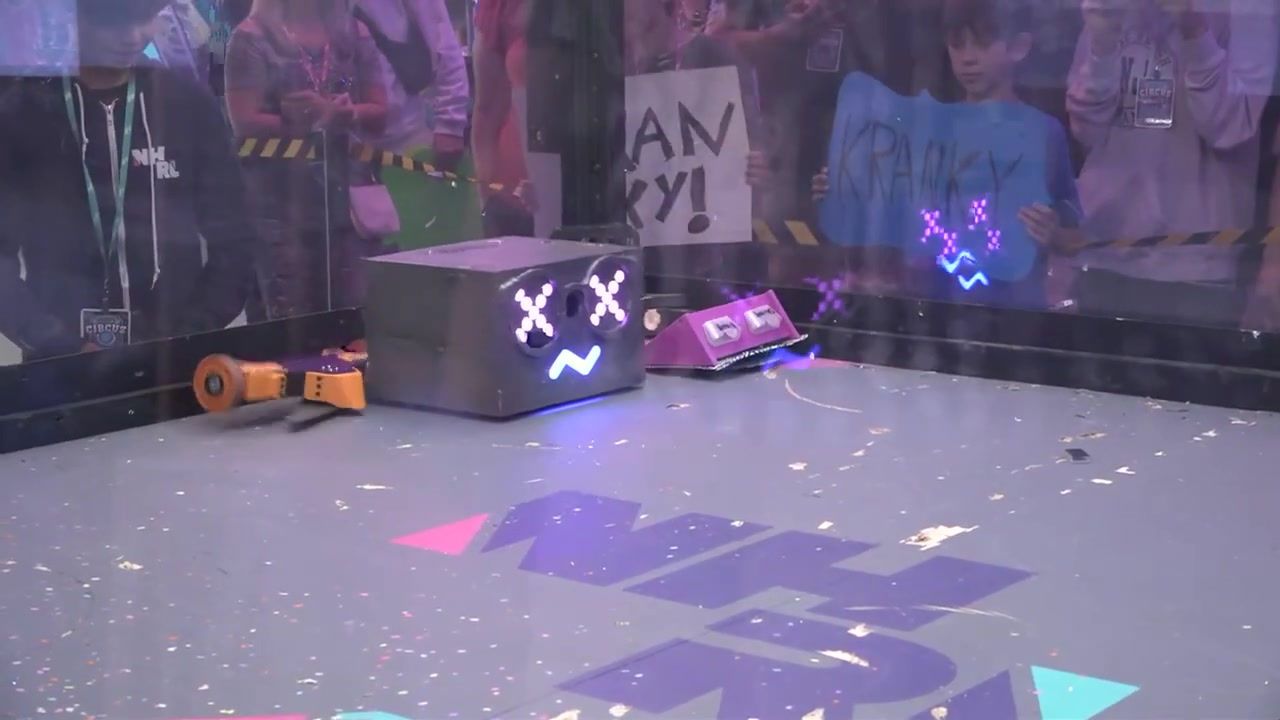combatbot: (194, 335, 370, 438), (646, 290, 809, 376)
housebot: (365, 237, 648, 418)
